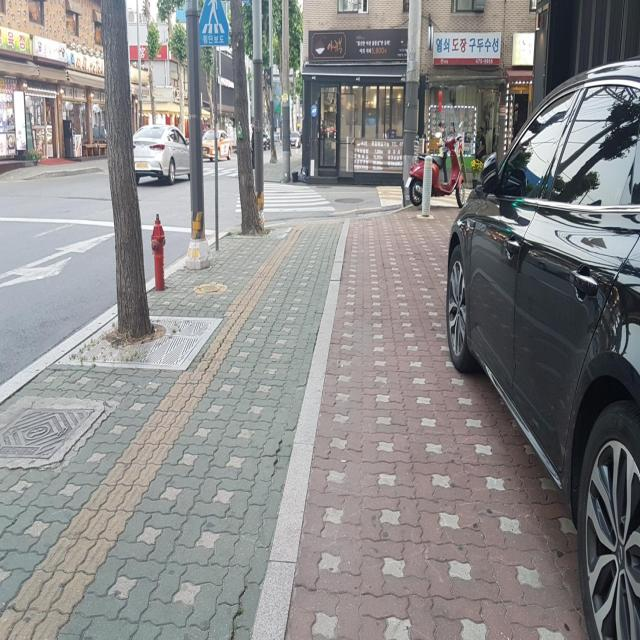횡단보도: (234, 181, 336, 214)
